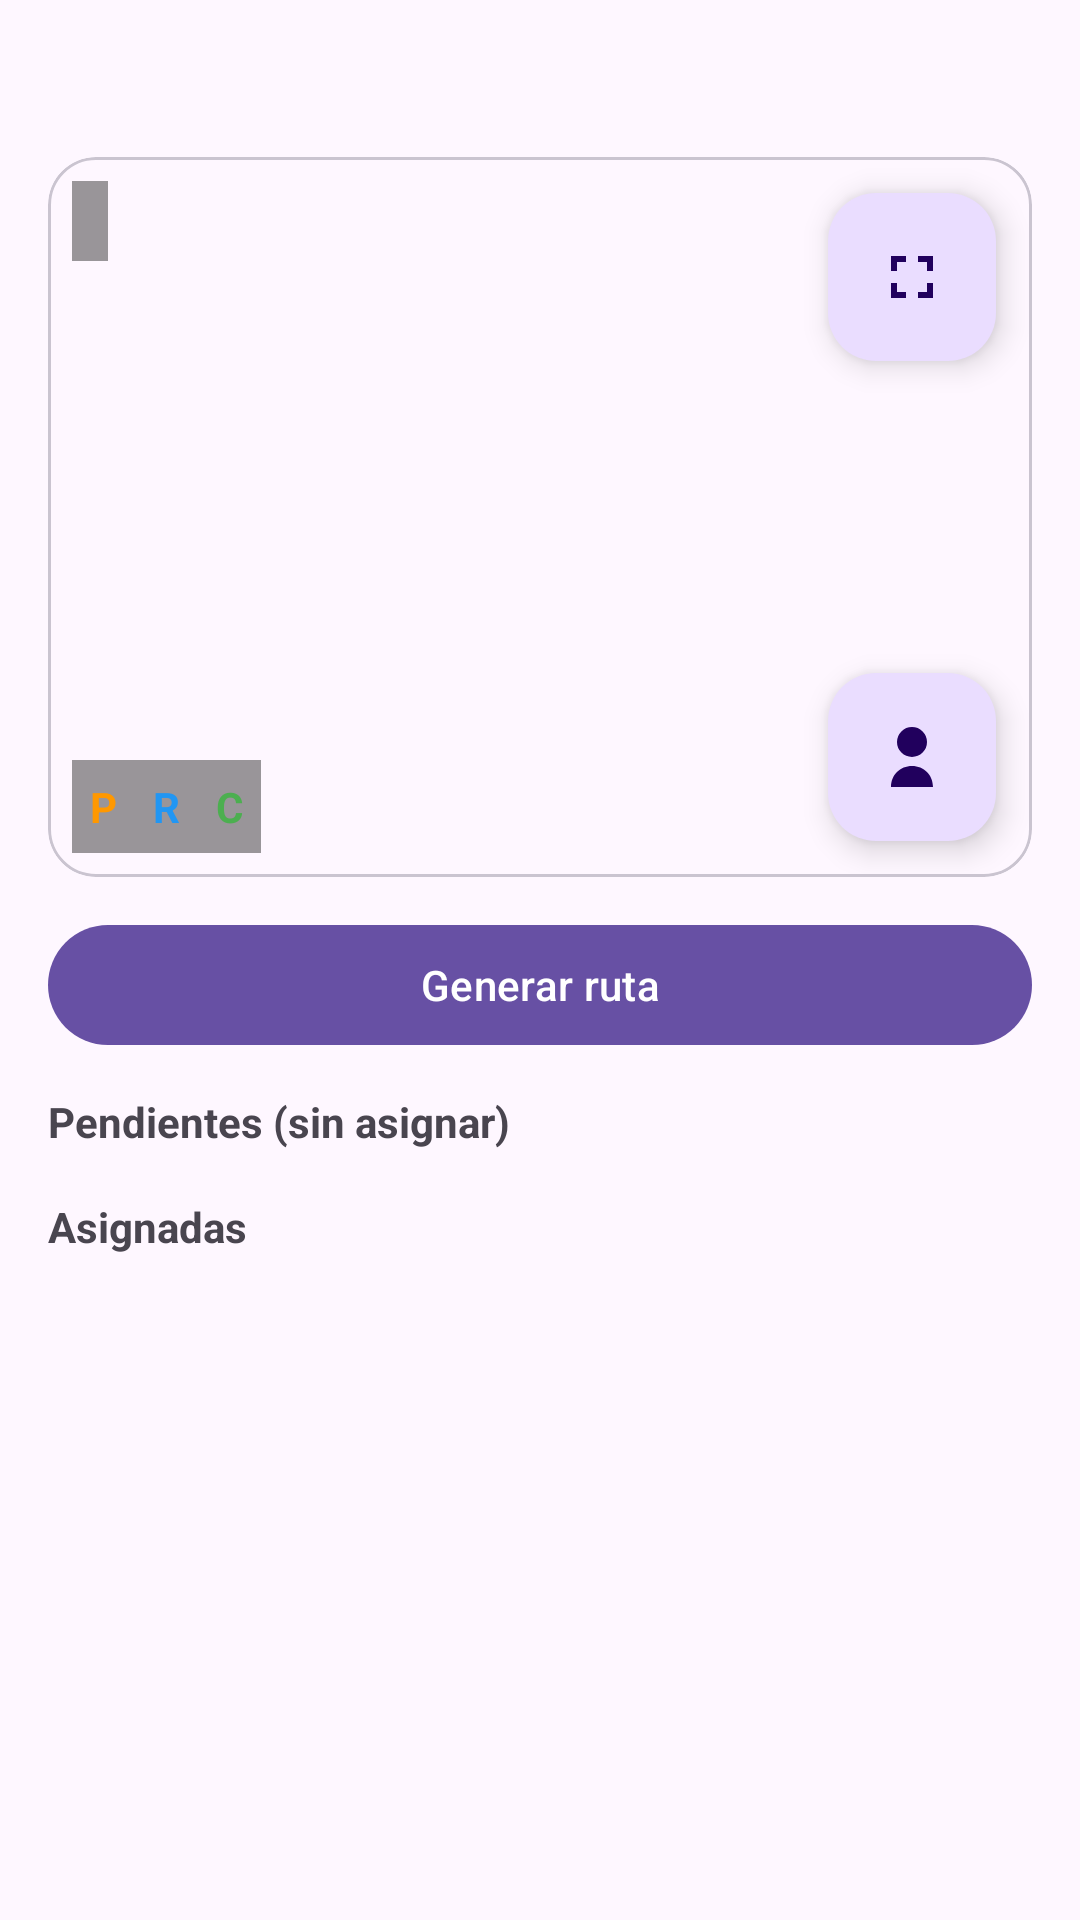

Icon bounding boxes for this 1080w x 1920h phone screenshot, format (x1, y1, x2, y2):
Expandir mapa a pantalla completa: (828, 193, 996, 361)
Seguir recolector: (828, 673, 996, 841)
